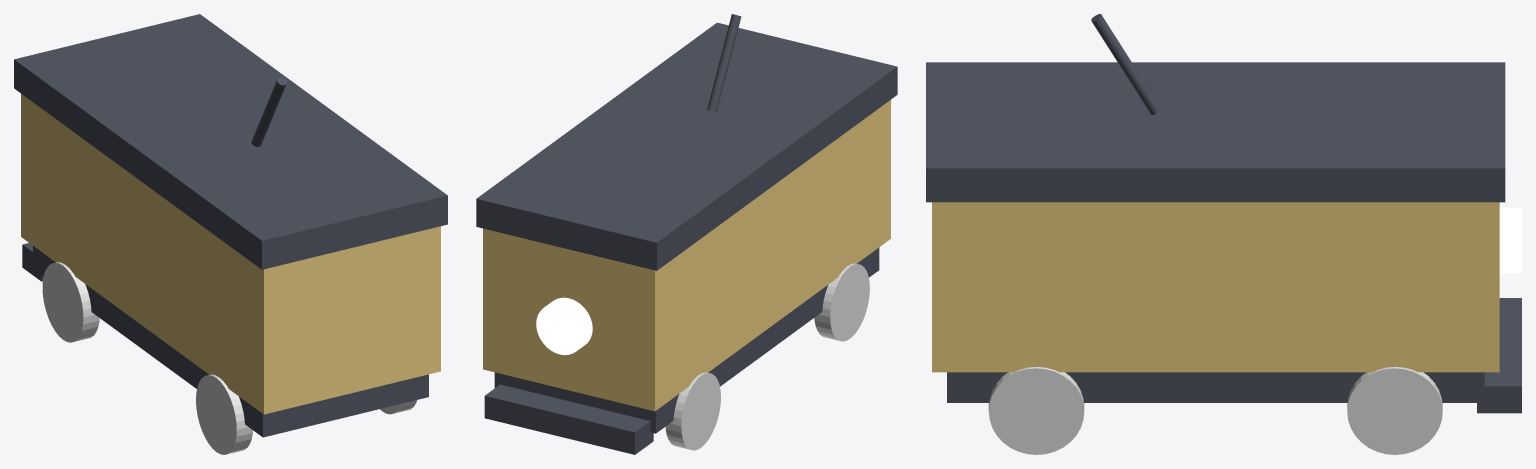
Rendered from trolley.glb.
The picture shows the model from 3 angles, left to right: view 1: azimuth 30°, elevation 25°; view 2: azimuth 150°, elevation 25°; view 3: azimuth 270°, elevation 25°; orthographic projection. The views are drawn at different scales.
Parts seen in each view (by area): view 1: TrolleyCar; view 2: TrolleyCar; view 3: TrolleyCar.
Part boxes in pixels (x1,y1,x2,y2): TrolleyCar: (14, 14, 447, 454); TrolleyCar: (476, 14, 897, 454); TrolleyCar: (926, 14, 1521, 454).
Size of the model in its own units: 1.68 by 2.87 by 3.99.
